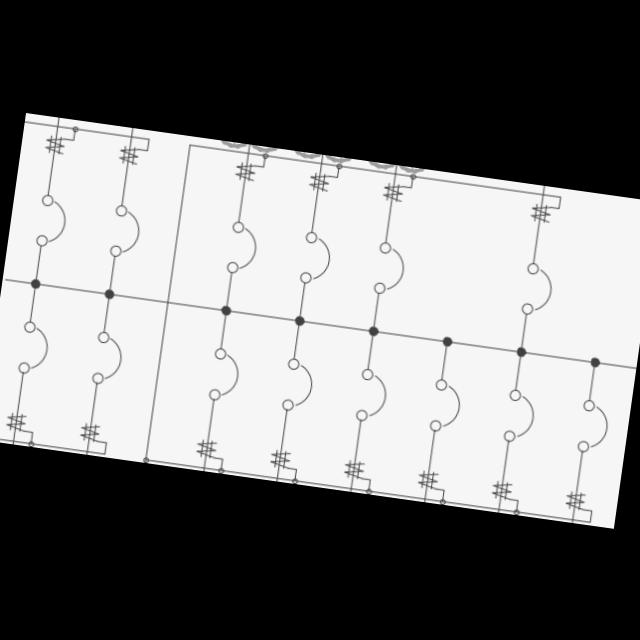ZCT: (306, 169, 332, 194), (415, 467, 441, 492), (43, 131, 67, 158), (380, 180, 405, 204), (116, 143, 140, 168), (564, 489, 588, 514), (341, 457, 366, 481), (194, 438, 220, 461), (233, 159, 257, 183), (529, 202, 553, 225), (490, 480, 514, 502), (268, 449, 292, 471), (5, 412, 28, 434), (78, 422, 100, 444)
